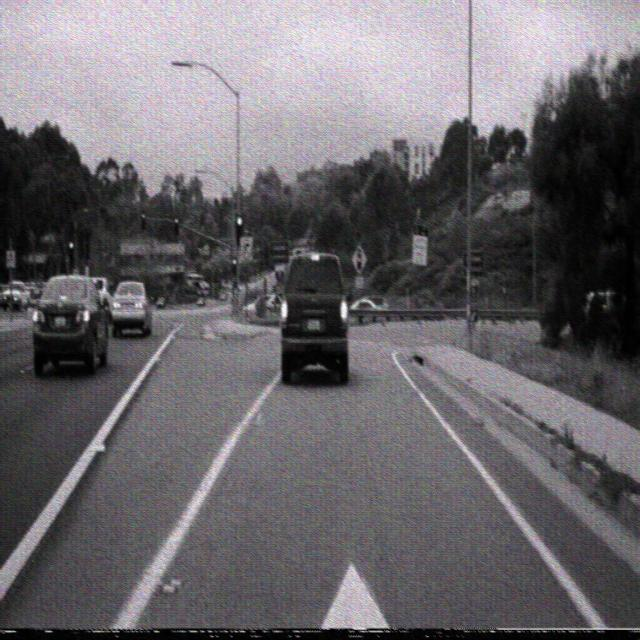noRightTurn: (240, 235, 252, 259)
